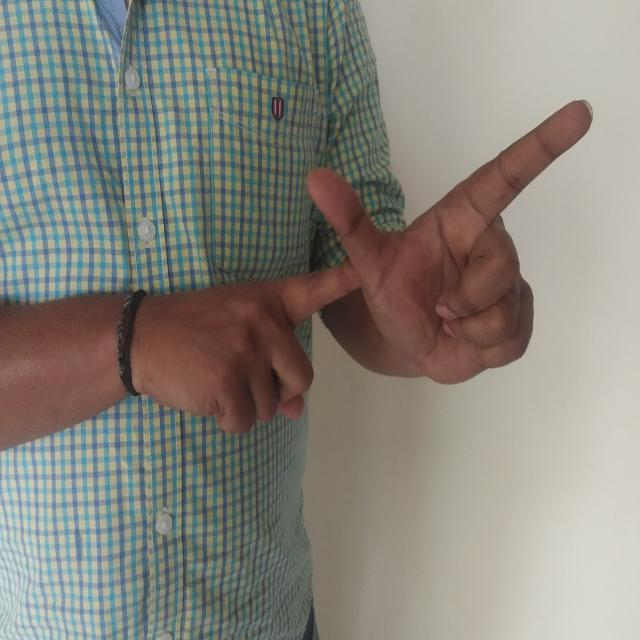Y: (147, 92, 598, 445)
